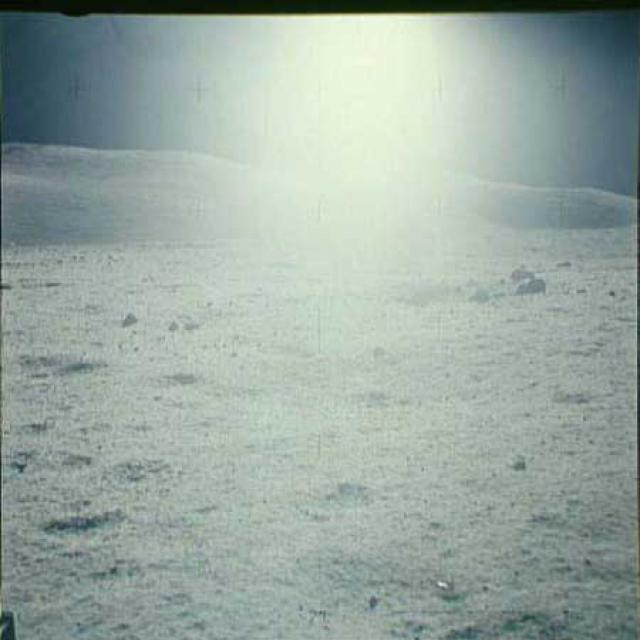crater: (2, 348, 105, 377)
rock: (504, 258, 546, 297)
